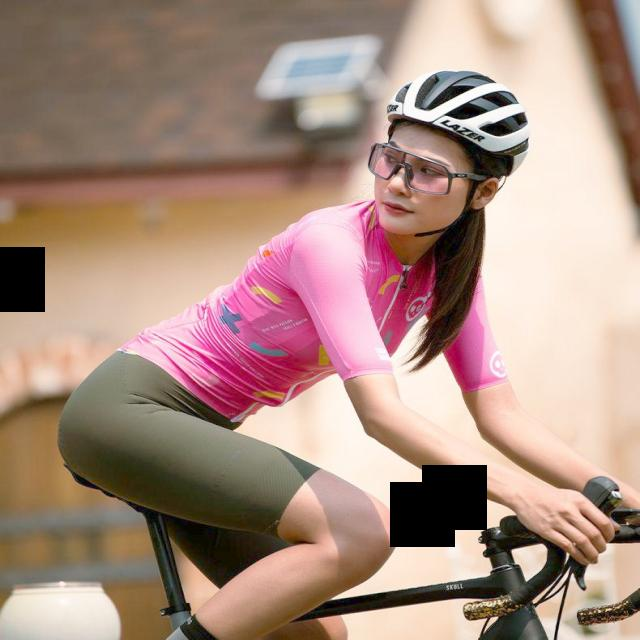Helmet: (372, 66, 532, 237)
